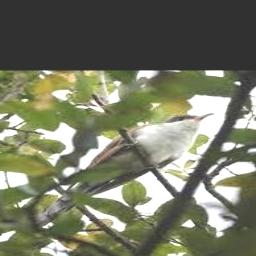Cuckoo: (33, 112, 214, 226)
